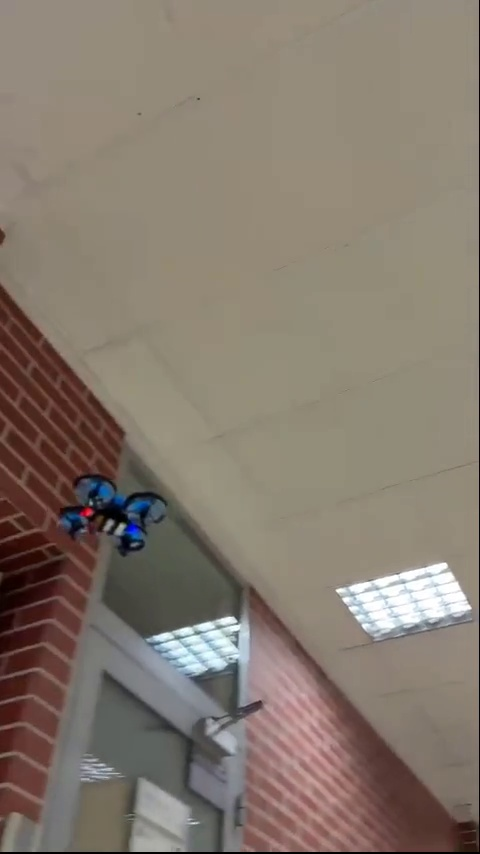drone: (56, 478, 167, 556)
